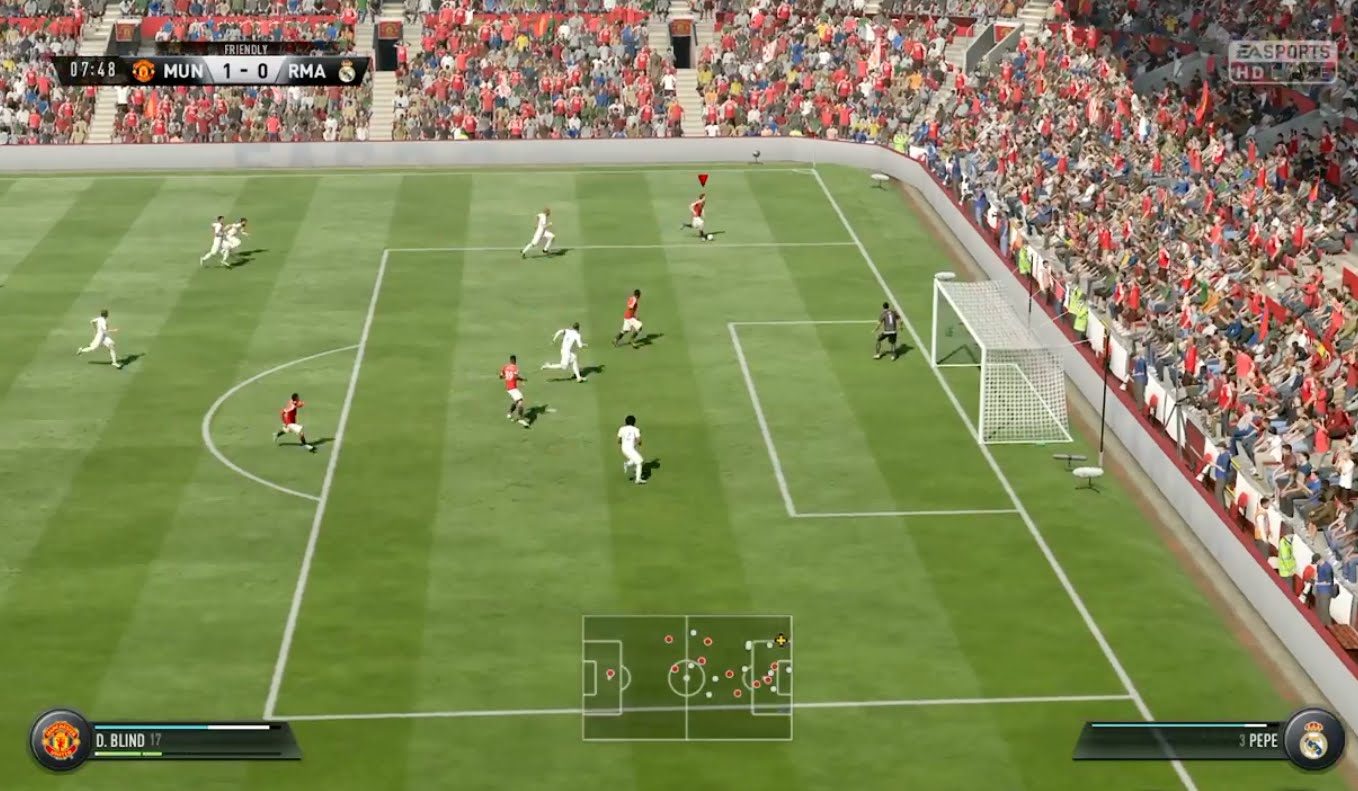ball: (705, 229, 715, 240)
goal: (929, 274, 1107, 474)
player: (497, 344, 535, 425), (612, 412, 652, 483), (611, 283, 652, 350), (546, 322, 591, 381), (81, 307, 120, 369), (279, 389, 315, 455), (522, 204, 556, 259), (870, 303, 900, 362), (198, 213, 226, 264), (228, 214, 255, 257), (681, 190, 704, 238)
